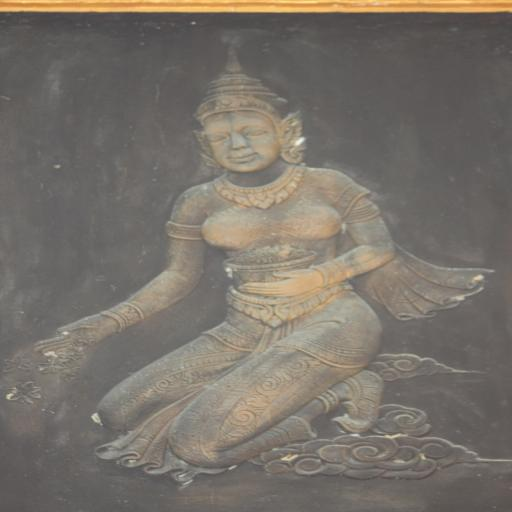than: (37, 56, 491, 484)
